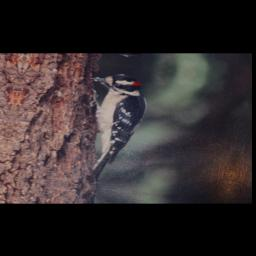Woodpecker: (67, 69, 156, 186)
